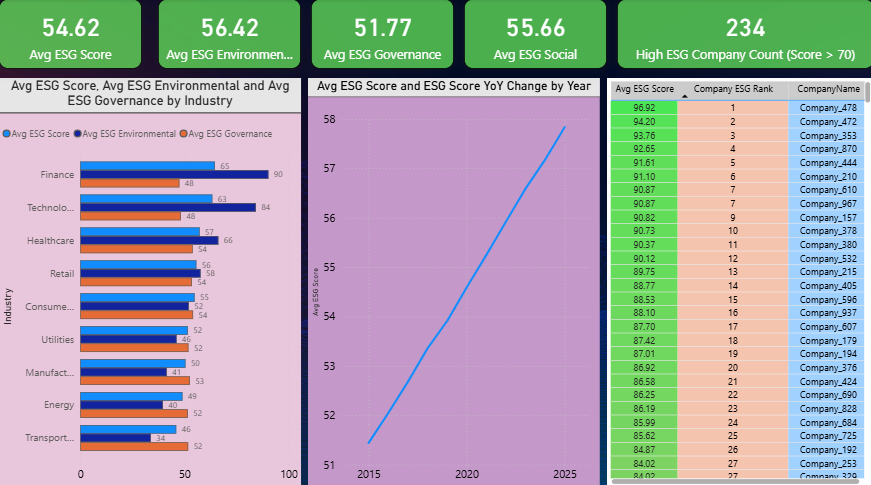

The page's visual inventory and layout, read from the dashboard file:
{"tool":"powerbi","page":{"name":"ESG Deep Dive","canvas":[1280,720],"ordinal":2},"visuals":[{"type":"lineChart","fields":{"Category":["DimDate.Year"],"Y":["All measures.Avg ESG Score"]},"box":[452.2,142,427.3,573.7],"z":0},{"type":"clusteredBarChart","fields":{"Category":["DimCompany.Industry"],"Y":["All measures.Avg ESG Score","All measures.Avg ESG Environmental","All measures.Avg ESG Governance"]},"box":[0,142,442,573.7],"z":1000},{"type":"tableEx","fields":{"Values":["All measures.Avg ESG Score","All measures.Company ESG Rank","DimCompany.CompanyName"]},"box":[889.8,142,390.7,573.7],"z":2000},{"type":"card","fields":{"Values":["All measures.High ESG Company Count (Score > 70)"]},"box":[904.9,23,361.3,102.6],"z":3000},{"type":"card","fields":{"Values":["All measures.Avg ESG Social"]},"box":[679.8,23,209.3,102.4],"z":4000},{"type":"card","fields":{"Values":["All measures.Avg ESG Governance"]},"box":[456.3,21.4,209.3,102.4],"z":5000},{"type":"card","fields":{"Values":["All measures.Avg ESG Environmental"]},"box":[232.7,21.4,209.3,102.4],"z":6000},{"type":"card","fields":{"Values":["All measures.Avg ESG Score"]},"box":[10.7,21.4,209.3,102.4],"z":7000}]}

Visuals, with their boxes in screenshot pixels (x1, y1, x2, y2), scaled from the page's 1280x720 canvas onto the 871x485 screenshot:
lineChart - DimDate.Year x All measures.Avg ESG Score: locate(308, 96, 598, 482)
clusteredBarChart - DimCompany.Industry x All measures.Avg ESG Score: locate(0, 96, 301, 482)
tableEx - All measures.Avg ESG Score x All measures.Company ESG Rank: locate(605, 96, 870, 482)
card - All measures.High ESG Company Count (Score > 70): locate(616, 15, 862, 85)
card - All measures.Avg ESG Social: locate(463, 15, 605, 84)
card - All measures.Avg ESG Governance: locate(310, 14, 453, 83)
card - All measures.Avg ESG Environmental: locate(158, 14, 301, 83)
card - All measures.Avg ESG Score: locate(7, 14, 150, 83)
